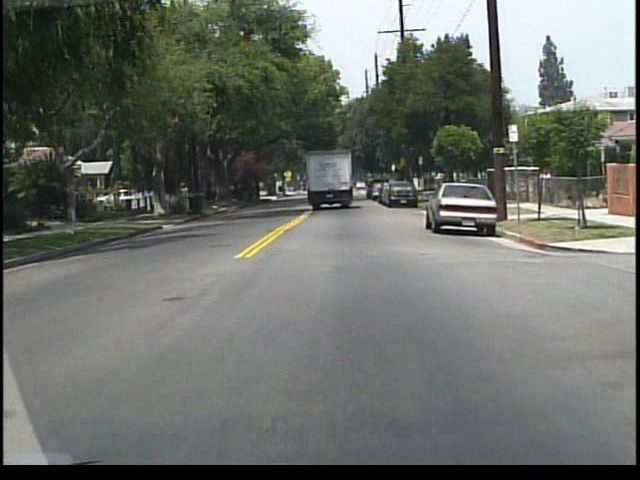person: (536, 166, 552, 204)
